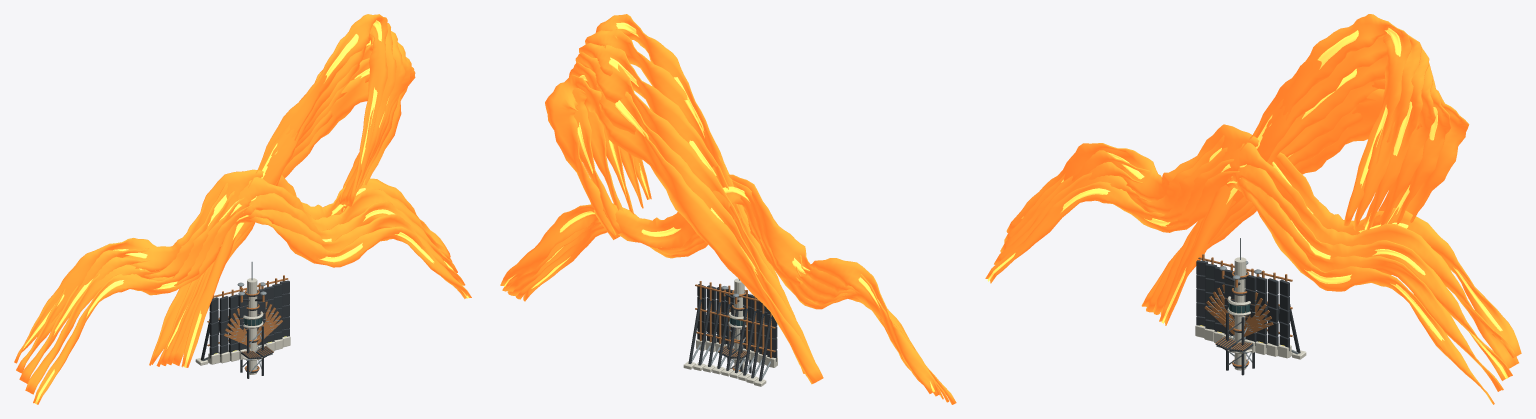
Rendered from thermal-observatory.glb.
The picture shows the model from 3 angles, left to right: view 1: azimuth 30°, elevation 25°; view 2: azimuth 150°, elevation 25°; view 3: azimuth 330°, elevation 25°; orthographic projection. The views are drawn at different scales.
Parts seen in each view (by area): view 1: ProminenceRibbon / Plasma / modeled coral filament, ProminenceCrown / Plasma / modeled coral filament, Sunshield / Graphite / curved shield cassette, ProminenceRibbon / Plasma / luminous core ribbons, ProminenceCrown / Plasma / luminous core ribbons, RadiatorFan / Copper / feather laminations, InstrumentTower / Ceramic / thick chalk thermal mantle, Sunshield / Ceramic / thick chalk thermal mantle, InstrumentTower / Graphite / curved shield cassette; view 2: ProminenceCrown / Plasma / modeled coral filament, ProminenceRibbon / Plasma / modeled coral filament, Sunshield / Graphite / curved shield cassette, ProminenceCrown / Plasma / luminous core ribbons, Sunshield / Copper / feather laminations, Sunshield / Ceramic / thick chalk thermal mantle, ProminenceRibbon / Plasma / luminous core ribbons, InstrumentTower / Ceramic / thick chalk thermal mantle; view 3: ProminenceRibbon / Plasma / modeled coral filament, ProminenceCrown / Plasma / modeled coral filament, Sunshield / Graphite / curved shield cassette, ProminenceRibbon / Plasma / luminous core ribbons, ProminenceCrown / Plasma / luminous core ribbons, RadiatorFan / Copper / feather laminations, InstrumentTower / Ceramic / thick chalk thermal mantle, Sunshield / Ceramic / thick chalk thermal mantle, InstrumentTower / Graphite / curved shield cassette.
Part boxes in pixels (x1,y1,x2,y2): ProminenceRibbon / Plasma / modeled coral filament: (14, 169, 471, 404); ProminenceCrown / Plasma / modeled coral filament: (149, 14, 415, 367); Sunshield / Graphite / curved shield cassette: (200, 280, 289, 360); ProminenceRibbon / Plasma / luminous core ribbons: (23, 188, 468, 404); ProminenceCrown / Plasma / luminous core ribbons: (166, 20, 388, 367); RadiatorFan / Copper / feather laminations: (224, 301, 282, 346); InstrumentTower / Ceramic / thick chalk thermal mantle: (242, 278, 263, 374); Sunshield / Ceramic / thick chalk thermal mantle: (195, 336, 290, 365); InstrumentTower / Graphite / curved shield cassette: (240, 291, 263, 378); ProminenceCrown / Plasma / modeled coral filament: (545, 14, 823, 384); ProminenceRibbon / Plasma / modeled coral filament: (500, 174, 956, 404); Sunshield / Graphite / curved shield cassette: (688, 284, 777, 381); ProminenceCrown / Plasma / luminous core ribbons: (577, 22, 757, 274); Sunshield / Copper / feather laminations: (695, 281, 775, 358); Sunshield / Ceramic / thick chalk thermal mantle: (683, 339, 777, 386); ProminenceRibbon / Plasma / luminous core ribbons: (504, 186, 940, 395); InstrumentTower / Ceramic / thick chalk thermal mantle: (728, 278, 746, 372); ProminenceRibbon / Plasma / modeled coral filament: (985, 124, 1521, 404); ProminenceCrown / Plasma / modeled coral filament: (1141, 14, 1469, 325); Sunshield / Graphite / curved shield cassette: (1196, 260, 1300, 353); ProminenceRibbon / Plasma / luminous core ribbons: (987, 148, 1508, 403); ProminenceCrown / Plasma / luminous core ribbons: (1161, 28, 1437, 323); RadiatorFan / Copper / feather laminations: (1204, 284, 1273, 336); InstrumentTower / Ceramic / thick chalk thermal mantle: (1227, 257, 1252, 370); Sunshield / Ceramic / thick chalk thermal mantle: (1195, 325, 1306, 359); InstrumentTower / Graphite / curved shield cassette: (1223, 273, 1254, 375).
Bounding box in the file's own units: 893 × 647 × 120.
